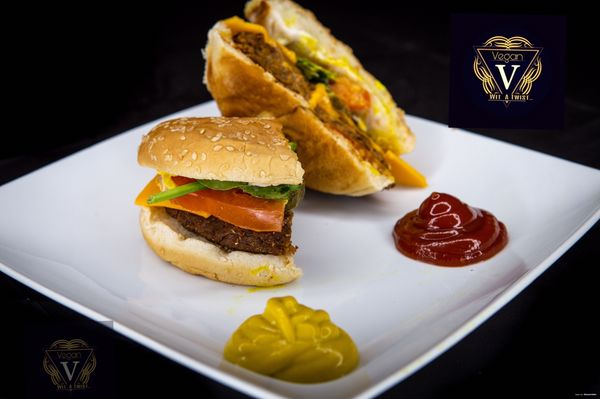soup: (202, 0, 421, 196), (133, 115, 307, 287)
